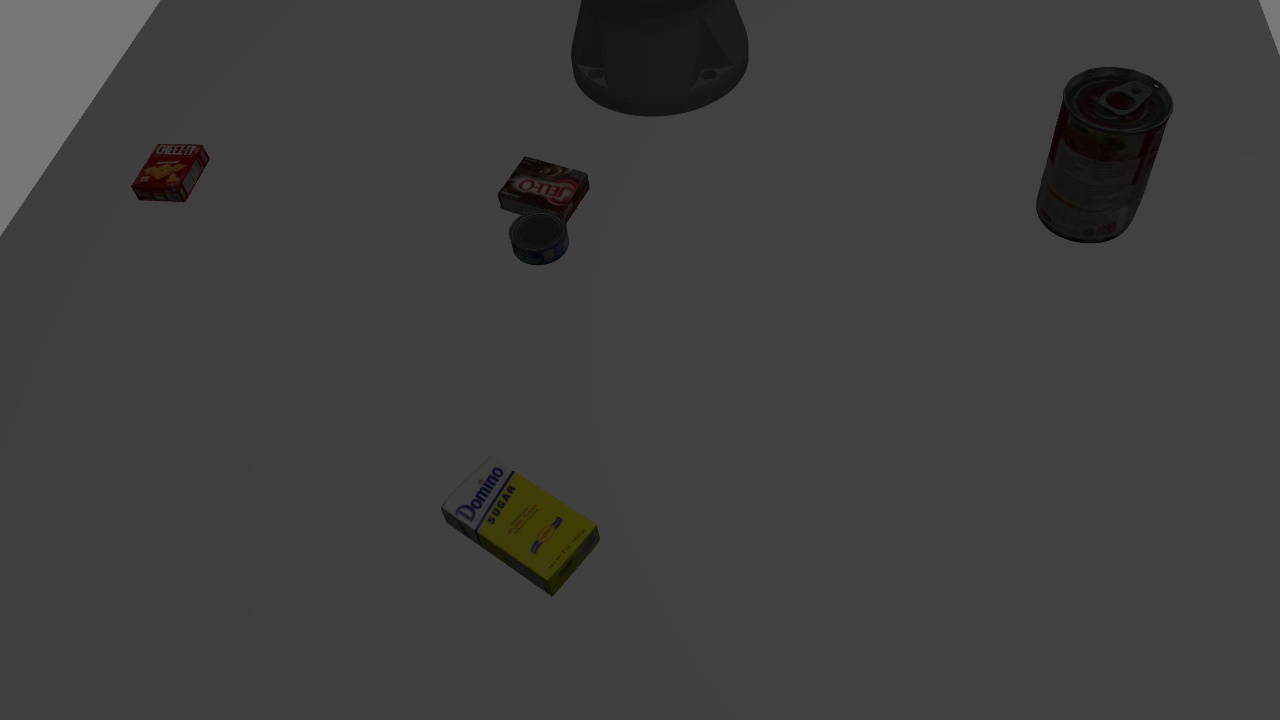cracker_box: (129, 138, 209, 212)
pudding_box: (497, 151, 591, 224)
sugar_box: (439, 451, 604, 593)
tomato_soup_can: (1036, 59, 1178, 254)
tuna_fish_can: (508, 211, 571, 270)
